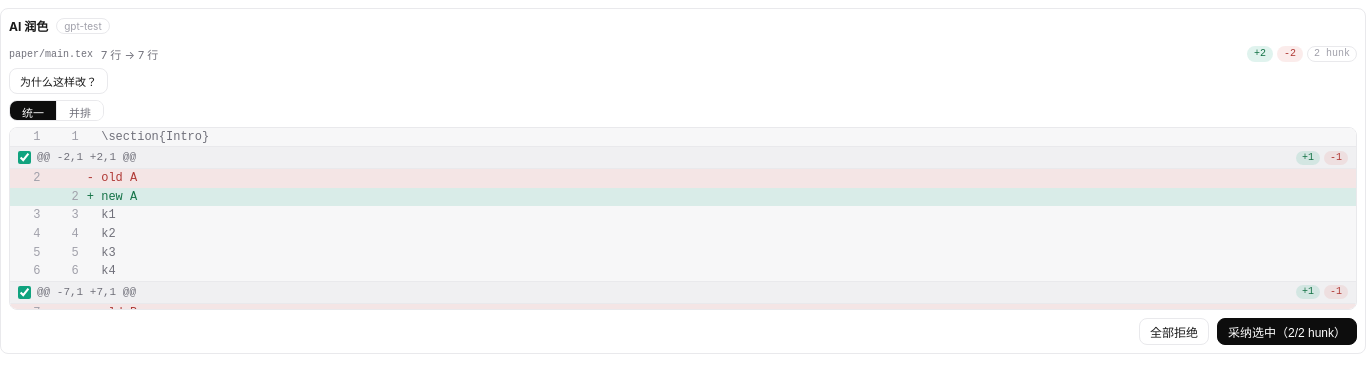
Scenario: DiffApprovalCard2 · 变更解释与语言 › 无 explanation：点击【为什么这样改？】回调一次并进入已请求态
Click the button with class "sf-approval-why" at (58, 81), box [9,68,108,94]
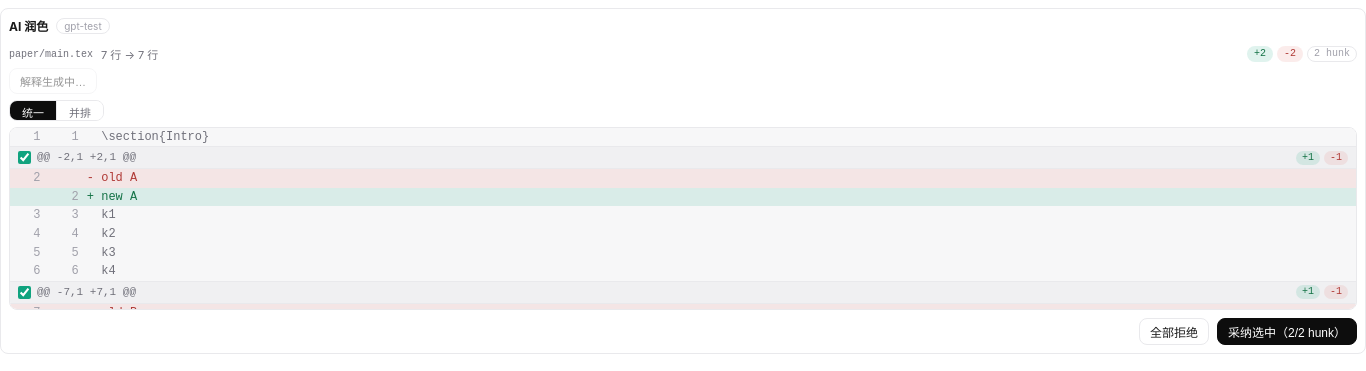
Now the button with class "sf-approval-why" reads "解释生成中…", box [9,68,97,94]
Now the button with class "sf-approval-why" is disabled, box [9,68,97,94]
